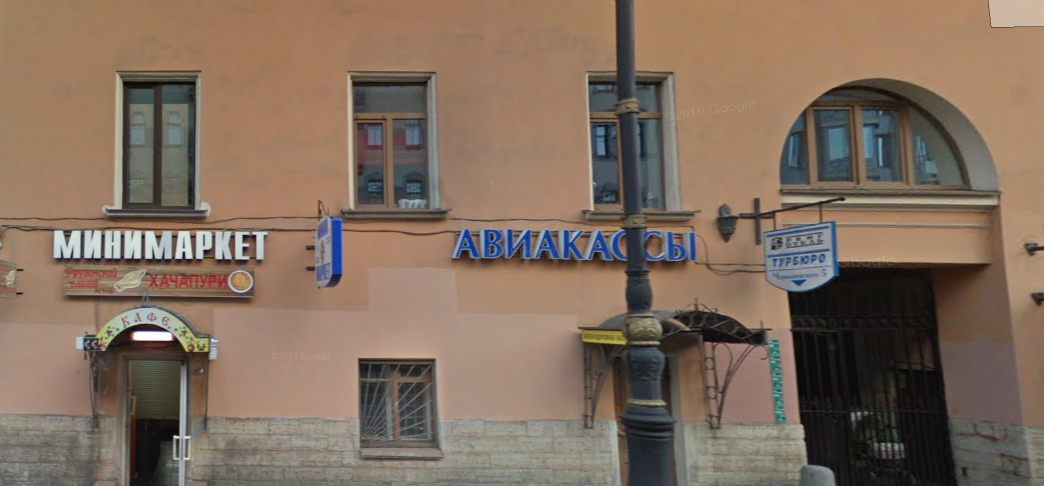arch: (781, 247, 981, 482)
cantilever: (712, 191, 841, 295), (306, 200, 343, 291)
signboard: (445, 229, 701, 265), (64, 262, 262, 304), (53, 227, 273, 264)
window: (782, 81, 968, 189), (588, 78, 660, 214), (121, 83, 196, 208), (355, 83, 430, 207)
